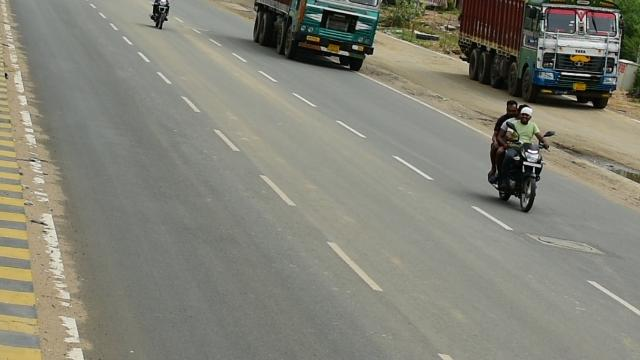Without Helmet: (515, 103, 537, 122)
